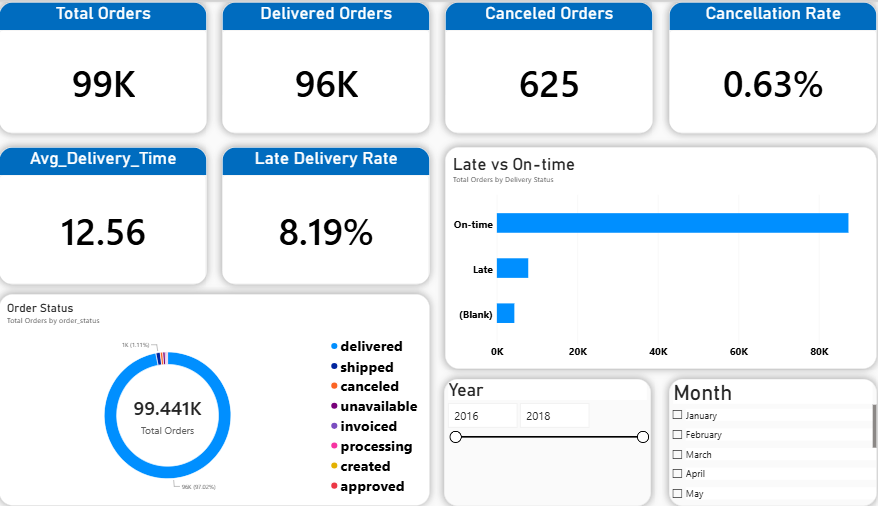

The page's visual inventory and layout, read from the dashboard file:
{"tool":"powerbi","page":{"name":"Orders&Delivery","canvas":[1920,1080],"ordinal":1},"visuals":[{"type":"cardVisual","title":"Total Orders","fields":{"Data":["Measures (2).Total Orders"]},"box":[21.3,0,445,280.6],"z":0},{"type":"cardVisual","title":"Delivered Orders","fields":{"Data":["Measures (2).Delivered Orders"]},"box":[498.2,0,445,280.6],"z":1},{"type":"cardVisual","title":"Canceled Orders","fields":{"Data":["Measures (2).Canceled Orders"]},"box":[975.1,0,445,280.6],"z":2},{"type":"cardVisual","title":"Cancellation Rate","fields":{"Data":["Measures (2).Cancellation Rate"]},"box":[1456,0,445,280.6],"z":3},{"type":"donutChart","title":"Order Status ","fields":{"Category":["FactOrders.order_status"],"Y":["Measures (2).Total Orders"]},"box":[21.3,625.8,921.7,453.4],"z":4},{"type":"cardVisual","title":"Avg_Delivery_Time","fields":{"Data":["Measures (2).Avg_Delivery_Time"]},"box":[21.3,310.8,444.9,293.7],"z":5},{"type":"cardVisual","title":"Late Delivery Rate","fields":{"Data":["Measures (2).Late Delivery Rate"]},"box":[498.1,310.8,444.9,293.7],"z":6},{"type":"clusteredBarChart","title":"Late vs On-time","fields":{"Category":["FactOrders.Delivery Status"],"Y":["Measures (2).Total Orders"]},"box":[977,310.8,923.8,474.7],"z":7},{"type":"slicer","fields":{"Values":["DimDate.Year"]},"box":[974.9,806.7,442.7,272.5],"z":8},{"type":"slicer","fields":{"Values":["DimDate.Month"]},"box":[1456,806.7,444.9,272.5],"z":9}]}

Visuals, with their boxes in screenshot pixels (x1, y1, x2, y2), scaled from the page's 1920x1080 canvas onto the 878x506 screenshot:
"Total Orders" cardVisual: <bbox>10, 0, 213, 131</bbox>
"Delivered Orders" cardVisual: <bbox>228, 0, 431, 131</bbox>
"Canceled Orders" cardVisual: <bbox>446, 0, 649, 131</bbox>
"Cancellation Rate" cardVisual: <bbox>666, 0, 869, 131</bbox>
"Order Status " donutChart: <bbox>10, 293, 431, 505</bbox>
"Avg_Delivery_Time" cardVisual: <bbox>10, 146, 213, 283</bbox>
"Late Delivery Rate" cardVisual: <bbox>228, 146, 431, 283</bbox>
"Late vs On-time" clusteredBarChart: <bbox>447, 146, 869, 368</bbox>
slicer - DimDate.Year: <bbox>446, 378, 648, 505</bbox>
slicer - DimDate.Month: <bbox>666, 378, 869, 505</bbox>
